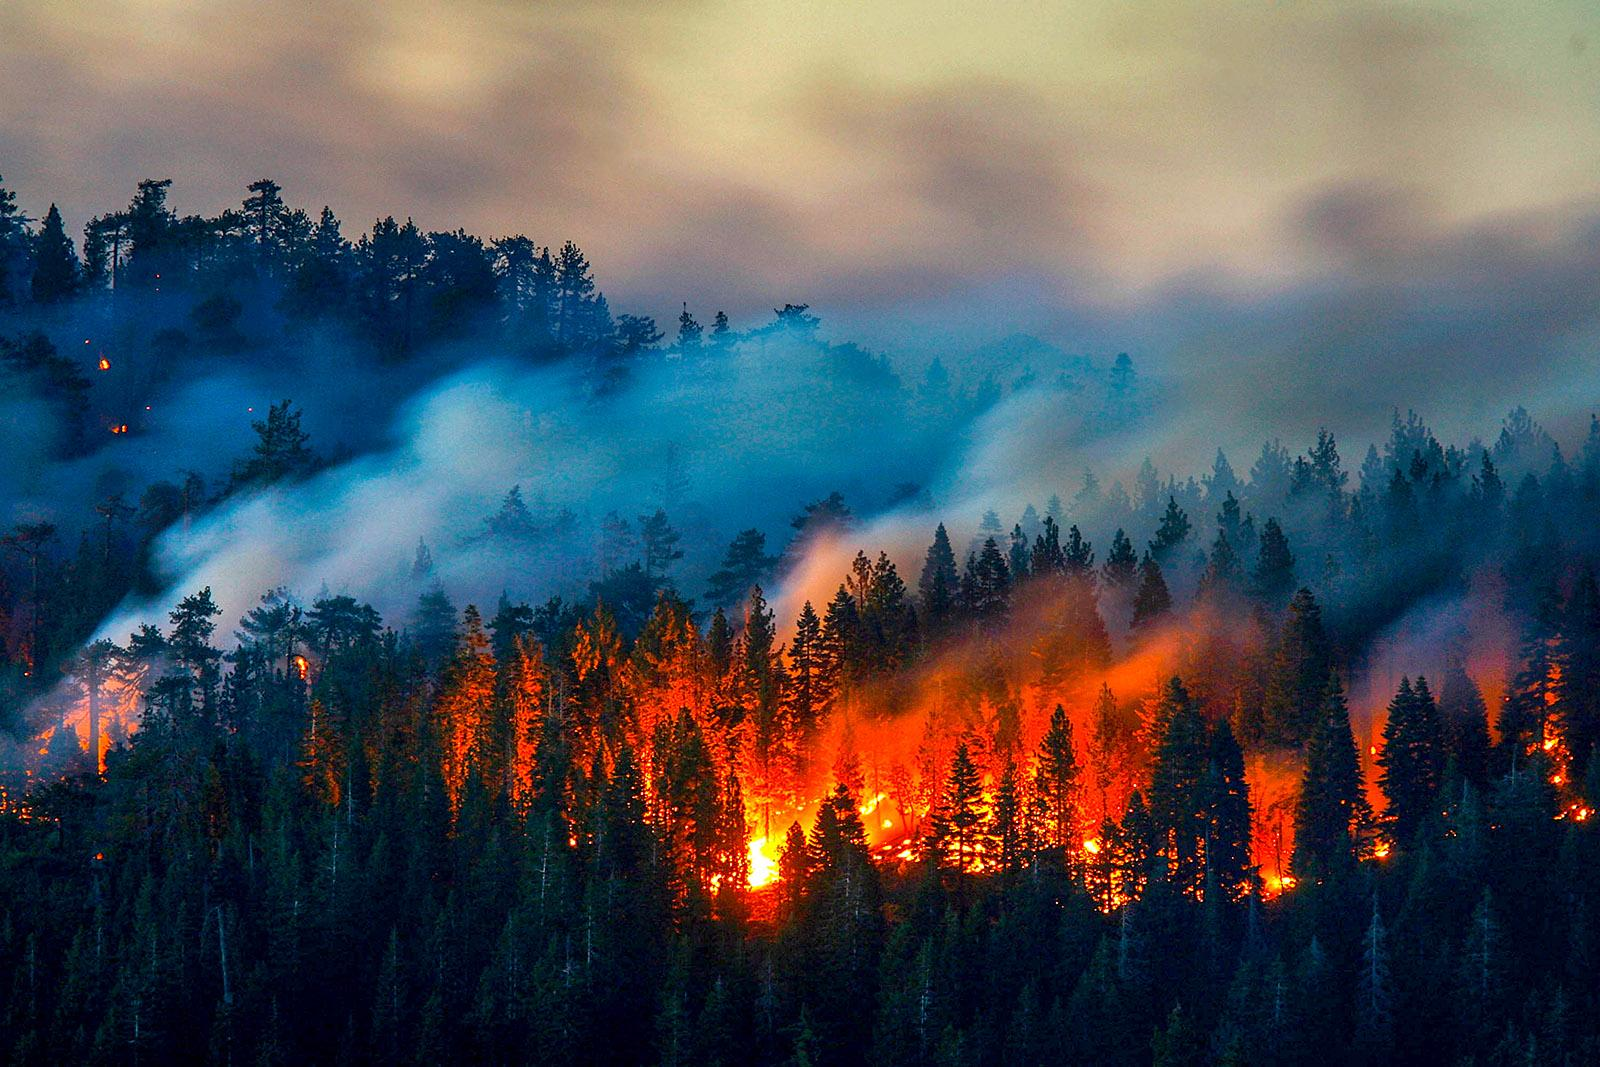fire: (655, 693, 1332, 922)
